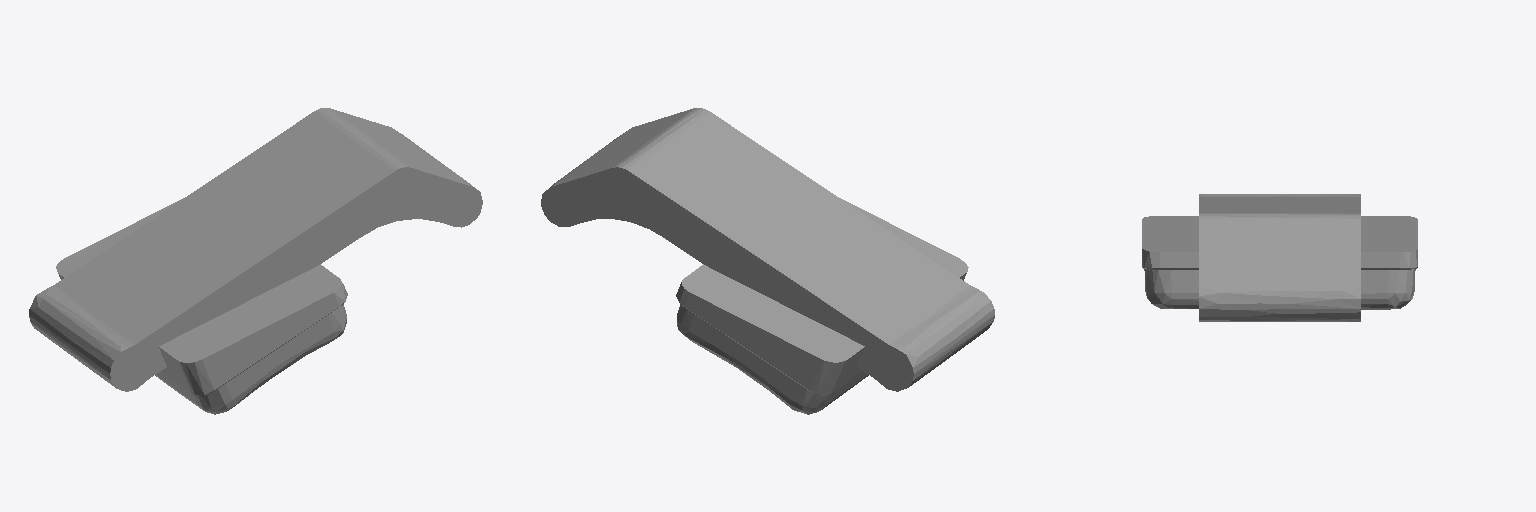
File: l_float.obj
3 renders of one model, left to right at view 1: azimuth 30°, elevation 25°; view 2: azimuth 150°, elevation 25°; view 3: azimuth 270°, elevation 25°, orthographic.
Visible parts, largest first — view 1: float_M_float_MShape; view 2: float_M_float_MShape; view 3: float_M_float_MShape.
Boxes of the visible parts, x1,y1,x2,y2 form: float_M_float_MShape: [29, 108, 482, 414]; float_M_float_MShape: [541, 108, 994, 414]; float_M_float_MShape: [1142, 194, 1417, 321].
Bounding box in the file's own units: 0.0484 × 0.0229 × 0.031.